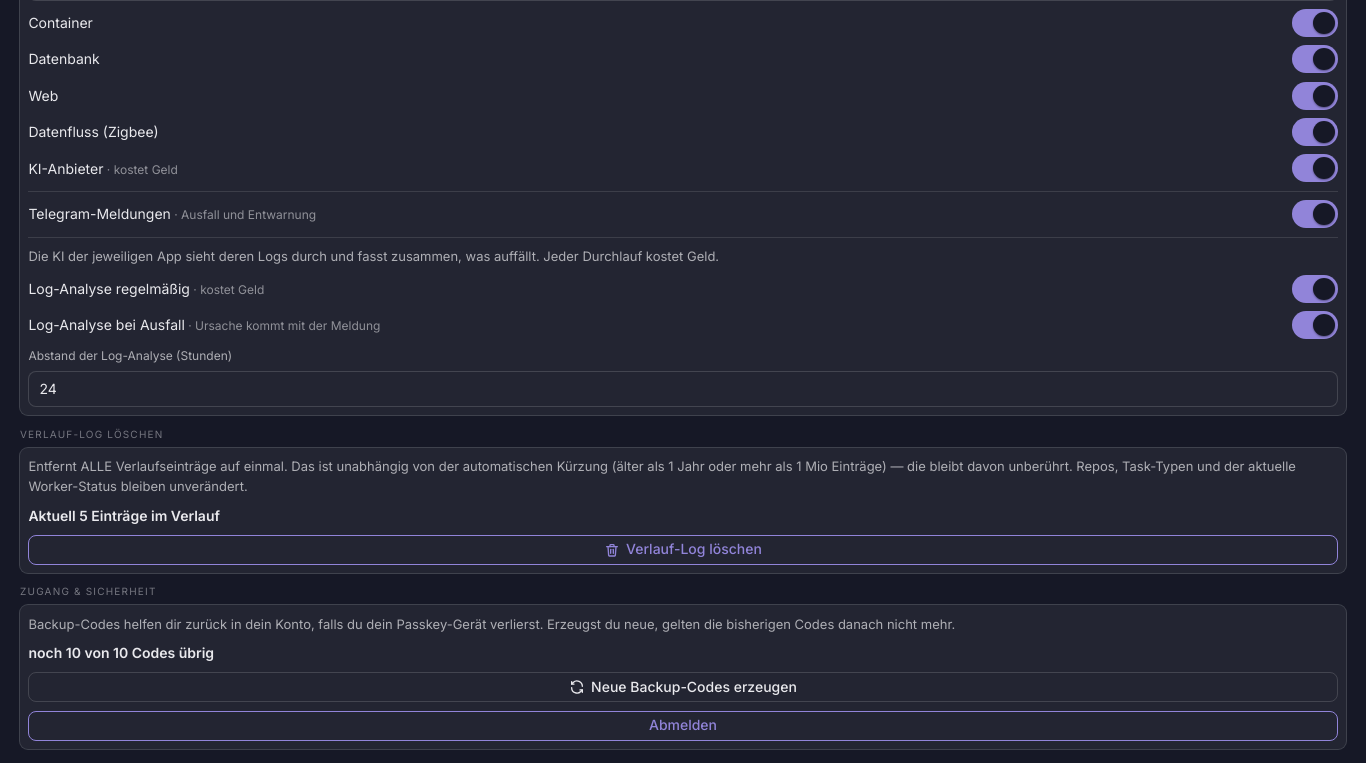
Test case: Einstellungen — Verlauf-Log löschen › AC: clicking the button opens the confirmation first
This screenshot has width=1366, height=763.
(page scrolled)
Expected: the text "Aktuell 5 Einträge im Verlauf" is shown, left=28, top=507, right=220, bottom=524
Expected: the text "Gesamten Verlauf wirklich löschen? Das lässt sich nicht rückgängig machen." is not shown
Click the button "Verlauf-Log löschen".
click(683, 550)  # box left=28, top=535, right=1338, bottom=565
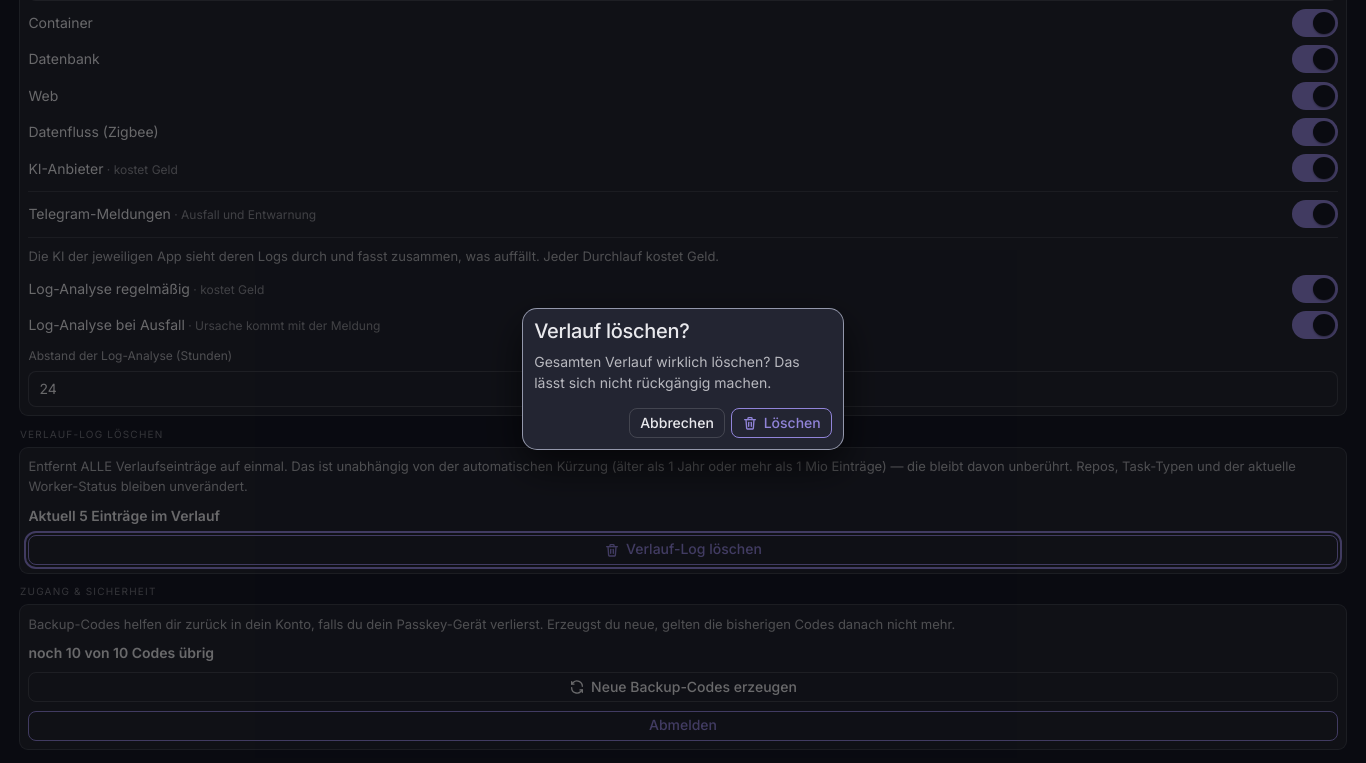
Expected: the dialog is shown, left=523, top=309, right=843, bottom=449
Expected: the text "Gesamten Verlauf wirklich löschen? Das lässt sich nicht rückgängig machen." is shown, left=534, top=351, right=832, bottom=394
Expected: the button "Abbrechen" is shown, left=629, top=408, right=725, bottom=438
